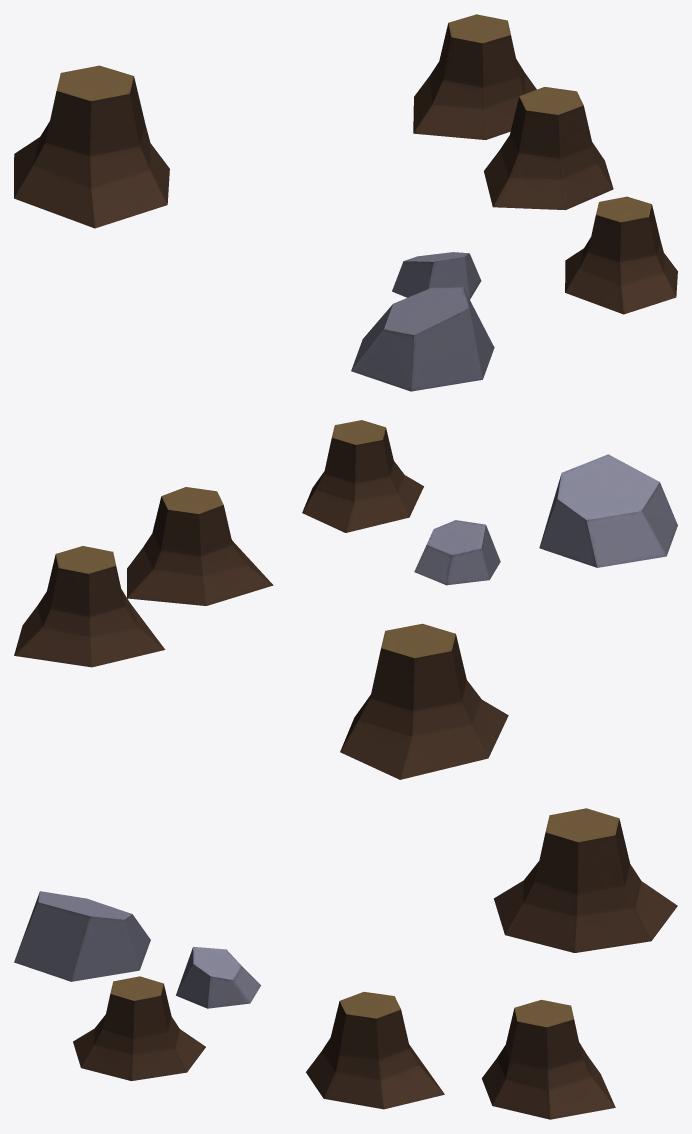
Rendered from waste_2_ruin.fbx.
The picture shows the model from 3 angles, top to bottom: view 1: azimuth 30°, elevation 25°; view 2: azimuth 150°, elevation 25°; view 3: azimuth 270°, elevation 25°; orthographic projection. The views are drawn at different scales.
Parts seen in each view (by area): view 1: waste_2_ruin; view 2: waste_2_ruin; view 3: waste_2_ruin.
Part boxes in pixels (left/top/right/bottom): waste_2_ruin: left=14, top=14, right=677, bottom=391; waste_2_ruin: left=14, top=420, right=677, bottom=779; waste_2_ruin: left=14, top=808, right=677, bottom=1119.
Bounding box in the file's own units: 0.0244 × 0.00466 × 0.0293.
